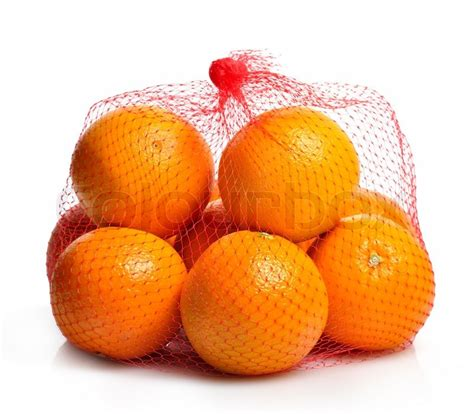orange: (182, 227, 332, 376), (210, 104, 361, 238), (67, 104, 215, 239), (43, 226, 186, 362), (317, 214, 435, 356)
